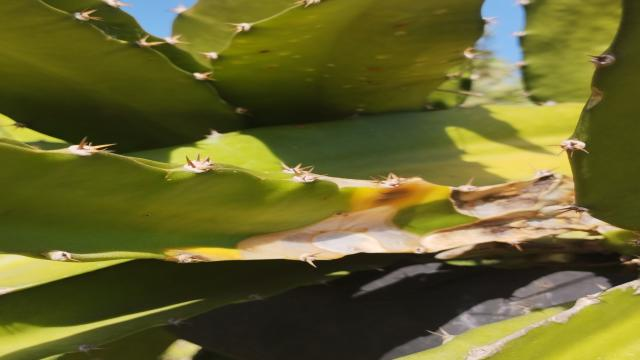stemcanker: (253, 19, 440, 110)
